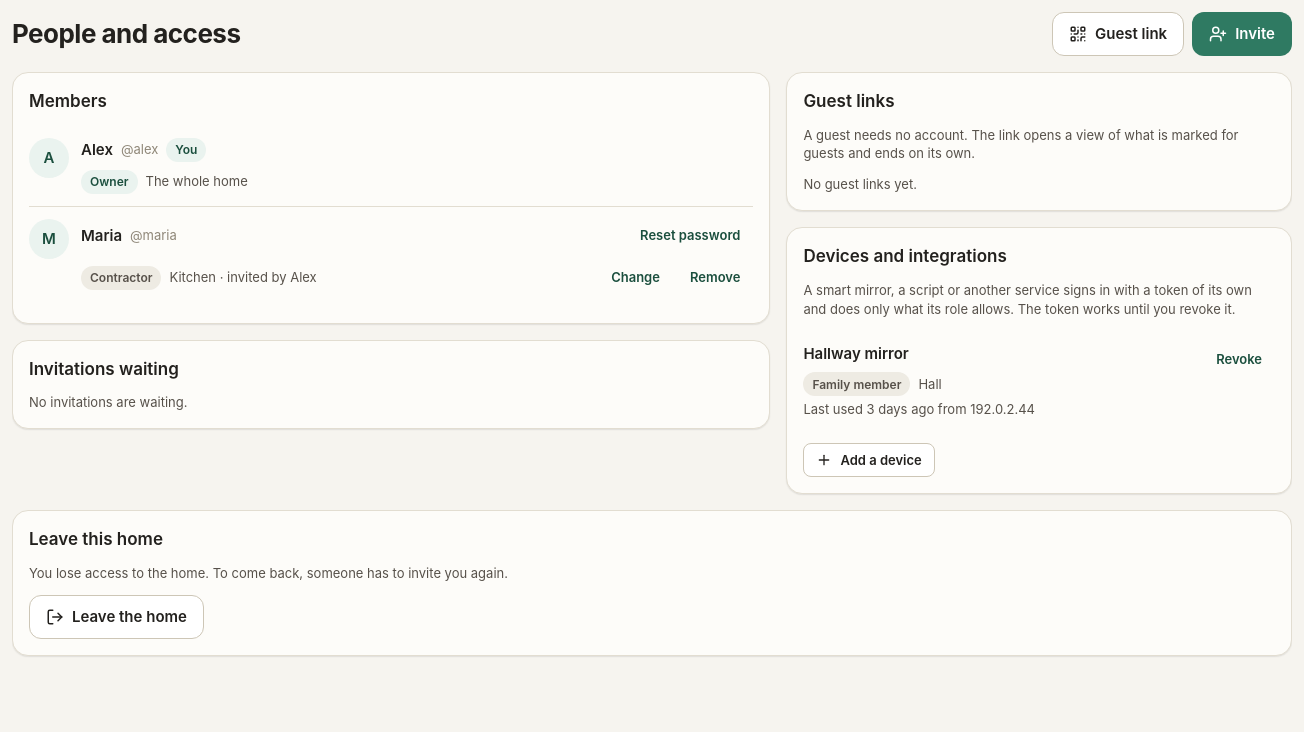
Test: PeoplePage › lists the devices with their roles, places and last use, and revokes one in one click
Expected: the text "Hallway mirror" is shown, [803,344,909,362]
Expected: the text "Family member" is shown, [803,372,910,396]
Click the button with aria-label "Revoke the token of “Hallway mirror”": click(1239, 360) [1203,342,1275,376]
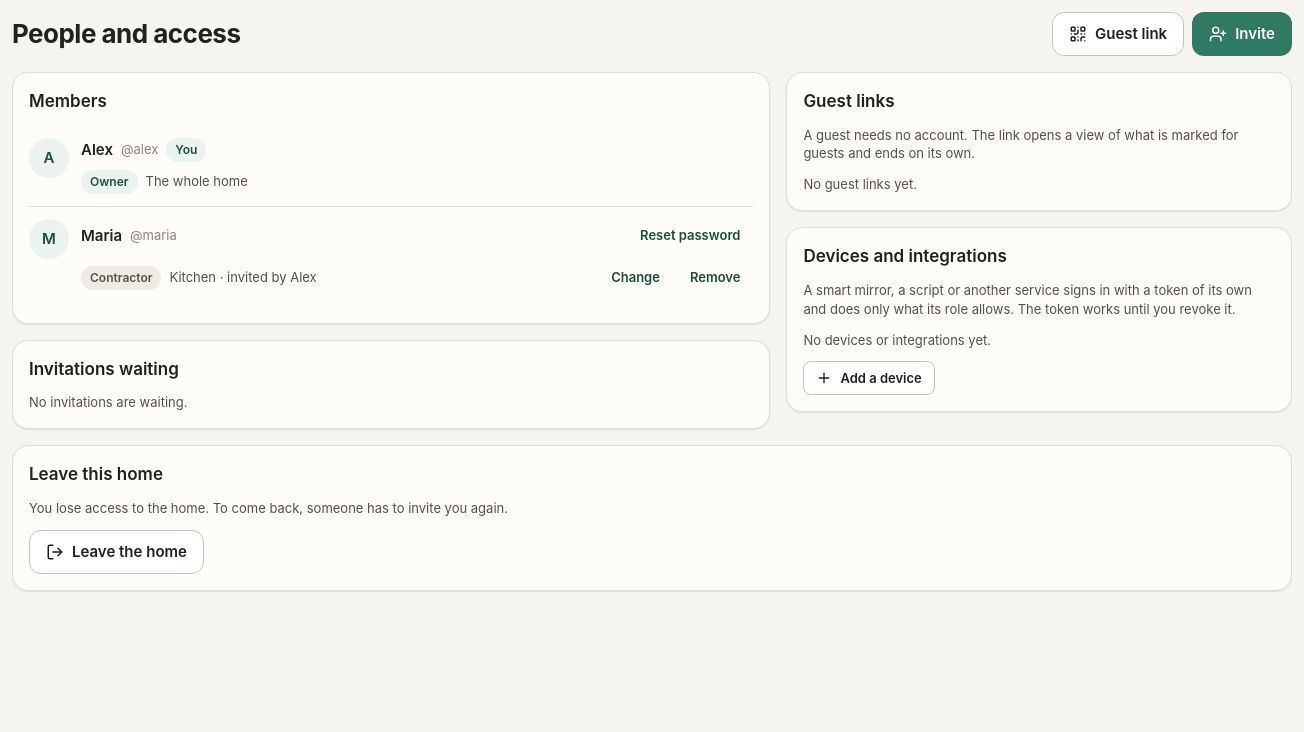
Expected: the text "No devices or integrations yet." is shown, [803,332,991,348]
